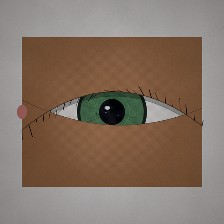pinguecula_lesion: (24, 100, 64, 132)
